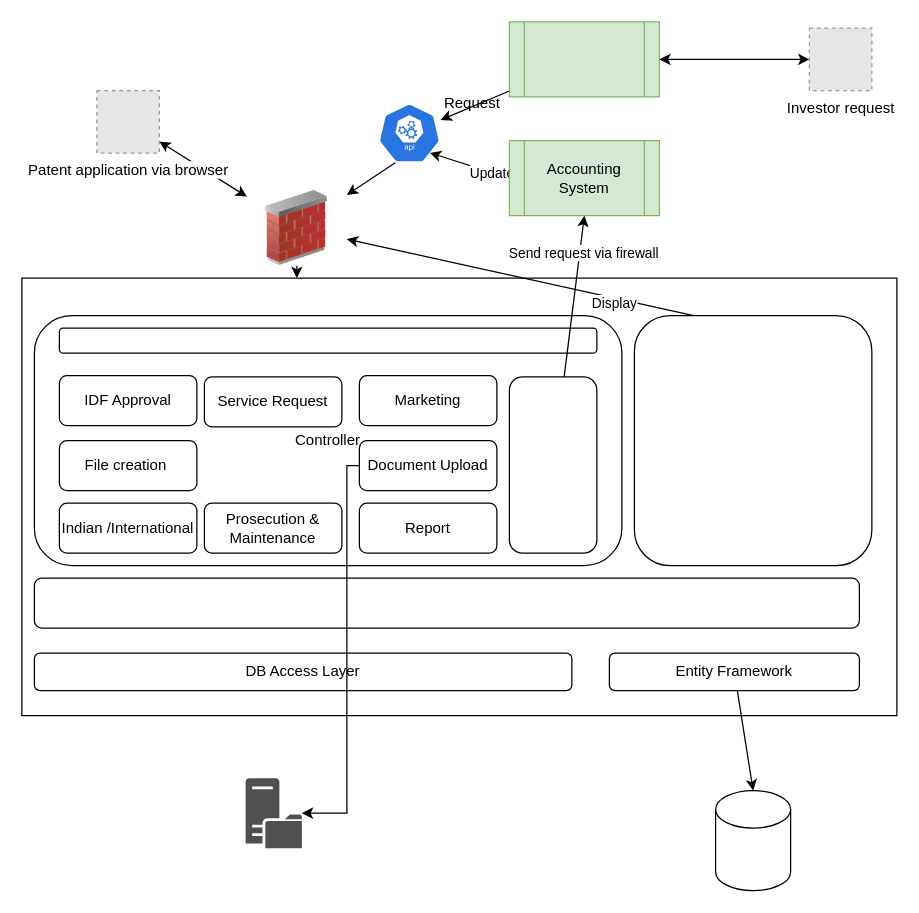
Some shapes in this 919 by 913 pixel diagram are drawn without their labels. Grey dashed boxes stand in for pictures. The centre of each missing label's shape, as x and y in pixels:
Authentication and authorization: the point at 327,340
Business Layer: the point at 446,602
DB: the point at 752,840
External PIS: the point at 583,59
File Storage (NAS): the point at 273,813
Payment & Receipt: the point at 552,464
View: the point at 752,440
